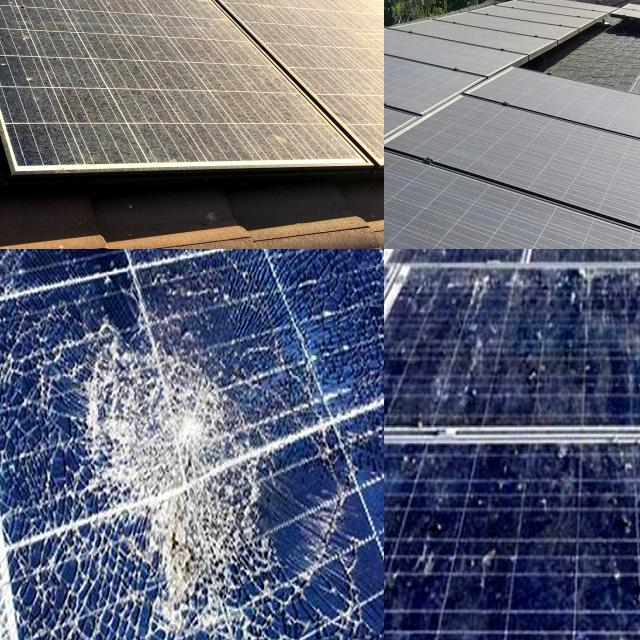bird: (460, 546, 504, 600), (426, 495, 452, 563), (384, 489, 403, 534), (462, 498, 503, 516), (614, 512, 639, 538), (540, 630, 581, 640)
dust: (384, 134, 530, 249), (0, 0, 193, 55), (22, 81, 140, 150), (199, 70, 293, 152), (557, 125, 640, 211), (384, 73, 446, 167), (0, 0, 126, 36), (438, 13, 551, 44), (384, 42, 440, 97), (0, 0, 58, 42), (491, 70, 526, 132)
hotspot: (57, 326, 270, 594), (266, 575, 380, 640), (44, 608, 238, 640)
